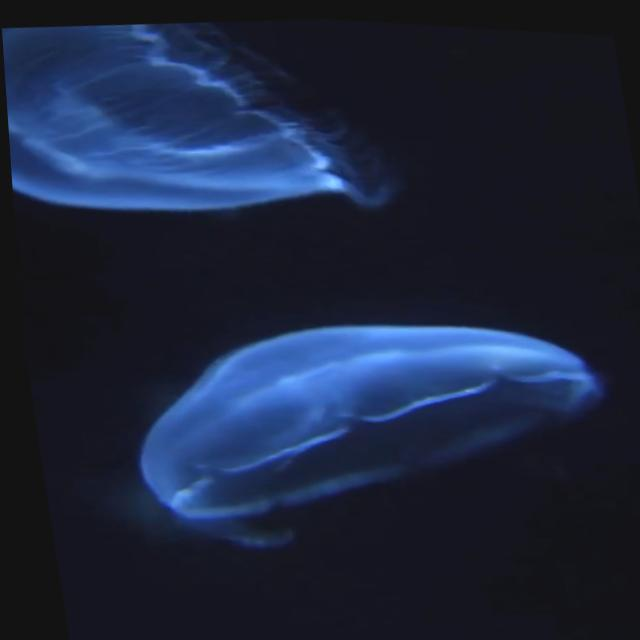Moon-jellyfish: (133, 320, 595, 516)
